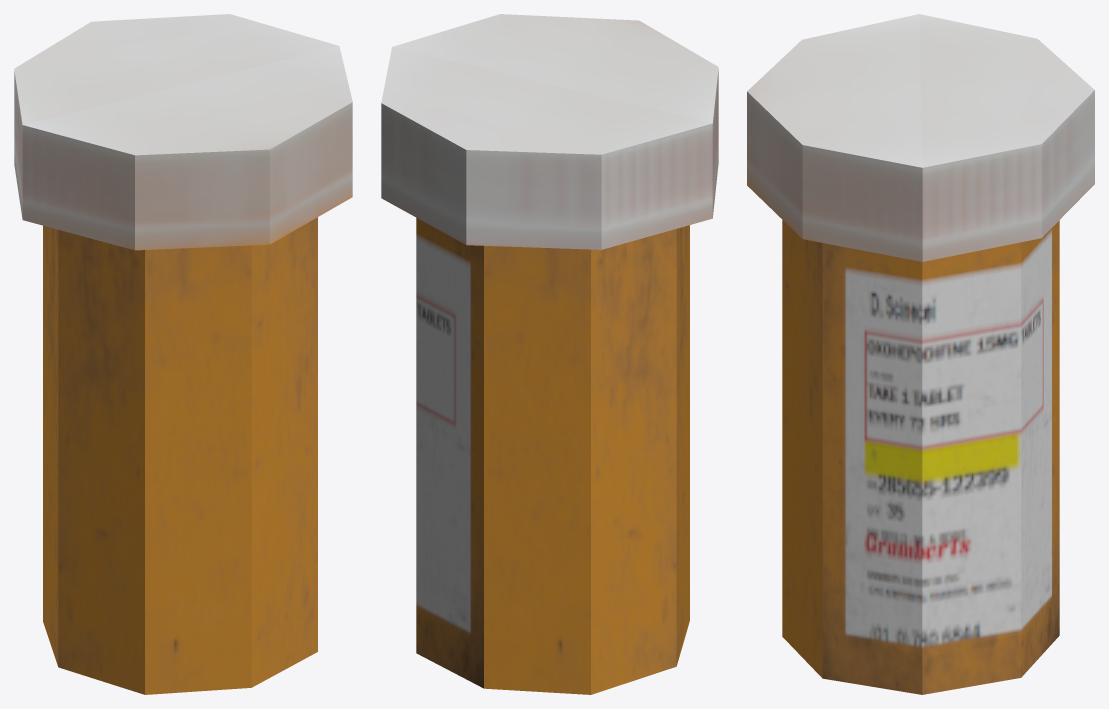
Rendered from pill_bottle.fbx.
The picture shows the model from 3 angles, left to right: view 1: azimuth 30°, elevation 25°; view 2: azimuth 150°, elevation 25°; view 3: azimuth 270°, elevation 25°; orthographic projection.
Parts seen in each view (by area): view 1: Bottle; view 2: Bottle; view 3: Bottle.
Boxes of the visible parts, left/top/right/bottom form: Bottle: left=14, top=14, right=352, bottom=694; Bottle: left=381, top=14, right=718, bottom=694; Bottle: left=747, top=14, right=1094, bottom=694.
Bounding box in the file's own units: 71.32 × 118 × 68.12.
1 material, 1 textured.
